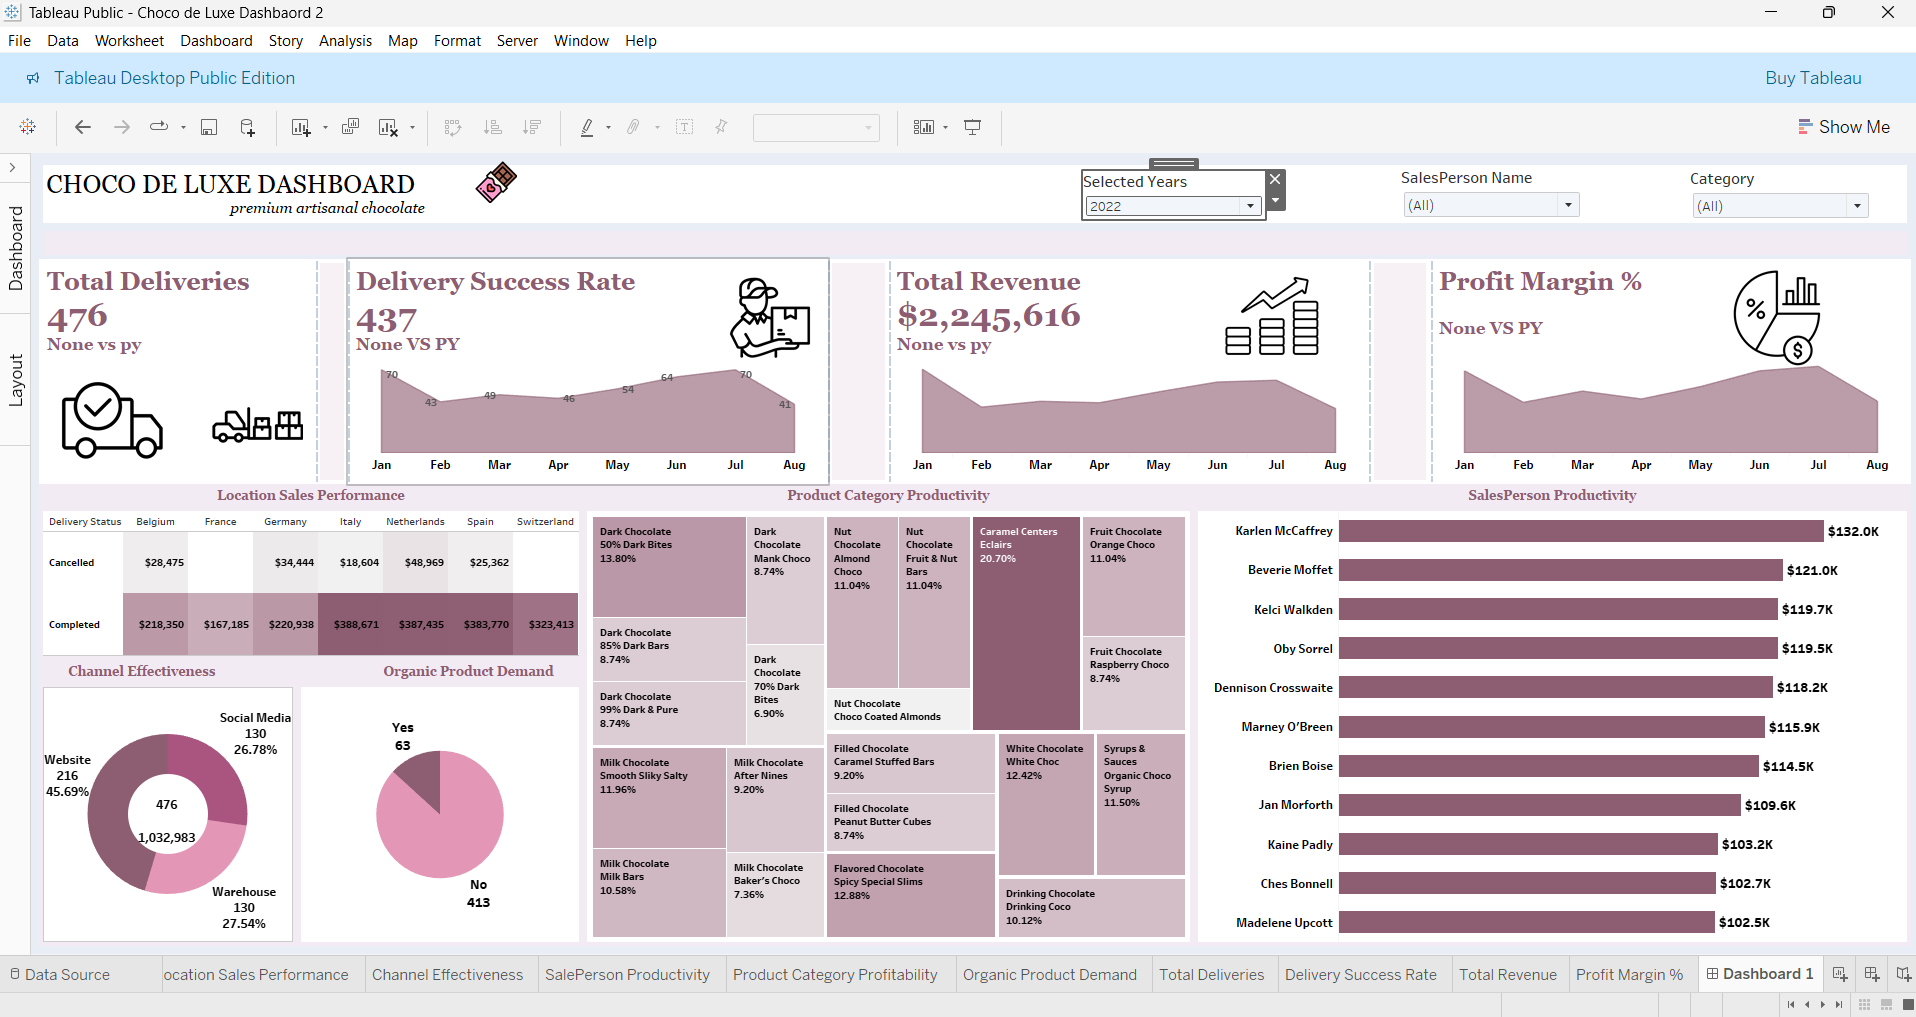

What the dashboard file says about the page in this screenshot:
{"tool":"tableau","page":{"name":"CHOCO DE LUXE DASHBOARD","canvas":[1000,1000],"units":"permille","ordinal":0},"visuals":[{"type":"text","box":[4.2,10,991.5,82.4]},{"type":"image","param":"Image/chocolate (1).png","box":[235.4,10,35,52.4]},{"type":"filter","title":"Location Sales Performance","param":"[federated.1a3qa581vdpiau12jeuxn0k5hg1q].[none:SalesPerson Name:nk]","box":[725.4,17.5,96.6,66.2]},{"type":"filter","title":"Location Sales Performance","param":"[federated.1a3qa581vdpiau12jeuxn0k5hg1q].[none:Category:nk]","box":[878.7,18.7,96.6,66.2]},{"type":"parameter","param":"[Parameters].[Parameter 1]","box":[557,22.5,96.6,59.9]},{"type":"blank","box":[4.2,92.4,991.5,40.1]},{"type":"worksheet","title":"Total Deliveries","mark":"Automatic","box":[4.2,132.5,146.7,280.7]},{"type":"blank","box":[151,132.5,16.9,280.7]},{"type":"worksheet","title":"Delivery Success Rate","mark":"Area","rows":["Calculation_232216878525898769","Calculation_232216878526521362"],"cols":["Date"],"box":[167.9,132.5,264.1,280.7]},{"type":"blank","box":[432,132.5,16.9,280.7]},{"type":"worksheet","title":"Total Revenue","mark":"Area","rows":["CY Deliveries (copy)_540150503252566026","PY Deliveries (copy)_540150503254061067"],"cols":["Date"],"box":[448.9,132.5,264.1,280.7]},{"type":"blank","box":[713,132.5,18.5,280.7]},{"type":"worksheet","title":"Profit Margin %","mark":"Area","rows":["CY Deliveries (copy)_540150503270477848","PY Total Deliveries (copy)_540150503270821913"],"cols":["Date"],"box":[731.6,132.5,264.1,280.7]},{"type":"image","param":"Image/revenue-growth.png","box":[631.3,142.3,63.4,121.1]},{"type":"image","param":"Image/profit-margin.png","box":[898,142.3,70.6,126.1]},{"type":"image","param":"Image/delivery-man.png","box":[368.7,153.6,62.2,104.9]},{"type":"image","param":"Image/delivered (1).png","box":[9.7,254.7,80.9,157.3]},{"type":"image","param":"Image/delivery (2).png","box":[96,282.2,83.3,113.6]},{"type":"text","box":[4.2,413.2,288.1,28.7]},{"type":"text","box":[292.4,413.2,323.6,28.7]},{"type":"text","box":[616,413.2,379.8,28.7]},{"type":"worksheet","title":"Location Sales Performance","mark":"Square","rows":["Delivery Status"],"cols":["Country"],"box":[4.2,441.9,288.1,191]},{"type":"worksheet","title":"Product Category Profitability","mark":"Automatic","box":[292.4,441.9,323.6,548.1]},{"type":"worksheet","title":"SalePerson Productivity","mark":"Automatic","rows":["SalesPerson Name"],"cols":["Calculation_232216878453989387"],"box":[616,441.9,379.8,548]},{"type":"text","box":[4.2,633,288.1,28.7]},{"type":"worksheet","title":"Channel Effectiveness","mark":"Pie","cols":["Calculation_232216878449336327","Calculation_232216878449451017"],"box":[4.2,661.7,136.7,328.3]},{"type":"worksheet","title":"Organic Product Demand","mark":"Pie","box":[140.9,661.7,151.5,328.3]}]}

Visuals, with their boxes on the dashboard's canvas, which has no fixed pixel size, in thousandths of its width and height (x1, y1, x2, y2). These are canvas units, not pixel positions in the 1916x1017 screenshot, which may show the page scaled, cropped or inside an application window:
text: [x1=4, y1=10, x2=996, y2=92]
image: [x1=235, y1=10, x2=270, y2=62]
"Location Sales Performance" filter: [x1=725, y1=18, x2=822, y2=84]
"Location Sales Performance" filter: [x1=879, y1=19, x2=975, y2=85]
parameter: [x1=557, y1=22, x2=654, y2=82]
blank: [x1=4, y1=92, x2=996, y2=132]
"Total Deliveries" worksheet: [x1=4, y1=132, x2=151, y2=413]
blank: [x1=151, y1=132, x2=168, y2=413]
"Delivery Success Rate" worksheet (Area marks): [x1=168, y1=132, x2=432, y2=413]
blank: [x1=432, y1=132, x2=449, y2=413]
"Total Revenue" worksheet (Area marks): [x1=449, y1=132, x2=713, y2=413]
blank: [x1=713, y1=132, x2=732, y2=413]
"Profit Margin %" worksheet (Area marks): [x1=732, y1=132, x2=996, y2=413]
image: [x1=631, y1=142, x2=695, y2=263]
image: [x1=898, y1=142, x2=969, y2=268]
image: [x1=369, y1=154, x2=431, y2=258]
image: [x1=10, y1=255, x2=91, y2=412]
image: [x1=96, y1=282, x2=179, y2=396]
text: [x1=4, y1=413, x2=292, y2=442]
text: [x1=292, y1=413, x2=616, y2=442]
text: [x1=616, y1=413, x2=996, y2=442]
"Location Sales Performance" worksheet (Square marks): [x1=4, y1=442, x2=292, y2=633]
"Product Category Profitability" worksheet: [x1=292, y1=442, x2=616, y2=990]
"SalePerson Productivity" worksheet: [x1=616, y1=442, x2=996, y2=990]
text: [x1=4, y1=633, x2=292, y2=662]
"Channel Effectiveness" worksheet (Pie marks): [x1=4, y1=662, x2=141, y2=990]
"Organic Product Demand" worksheet (Pie marks): [x1=141, y1=662, x2=292, y2=990]
